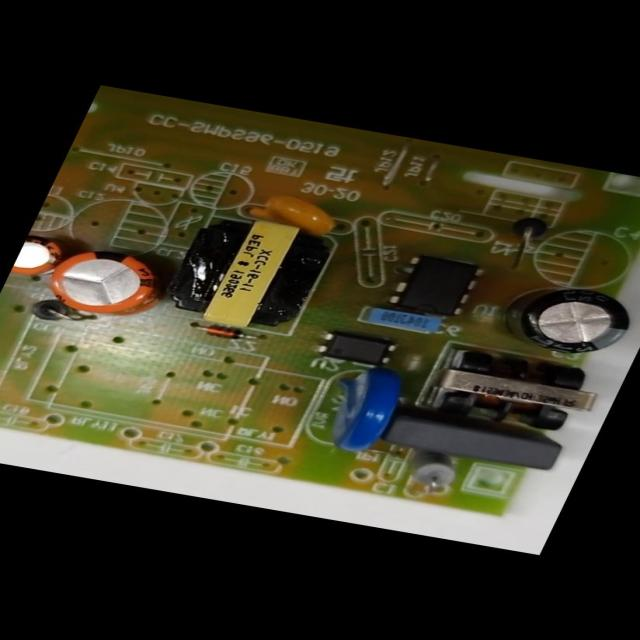Cap1: (36, 243, 174, 323)
Cap2: (10, 234, 68, 279)
Cap3: (483, 278, 639, 362)
MOSFET: (387, 253, 484, 319)
Mov: (312, 369, 413, 455)
Resistor: (400, 448, 466, 492)
Transformer: (152, 210, 334, 336), (426, 347, 608, 433)
